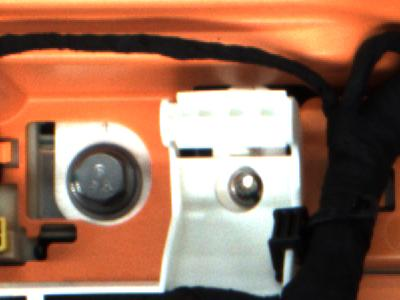nut_b: (60, 139, 151, 227)
